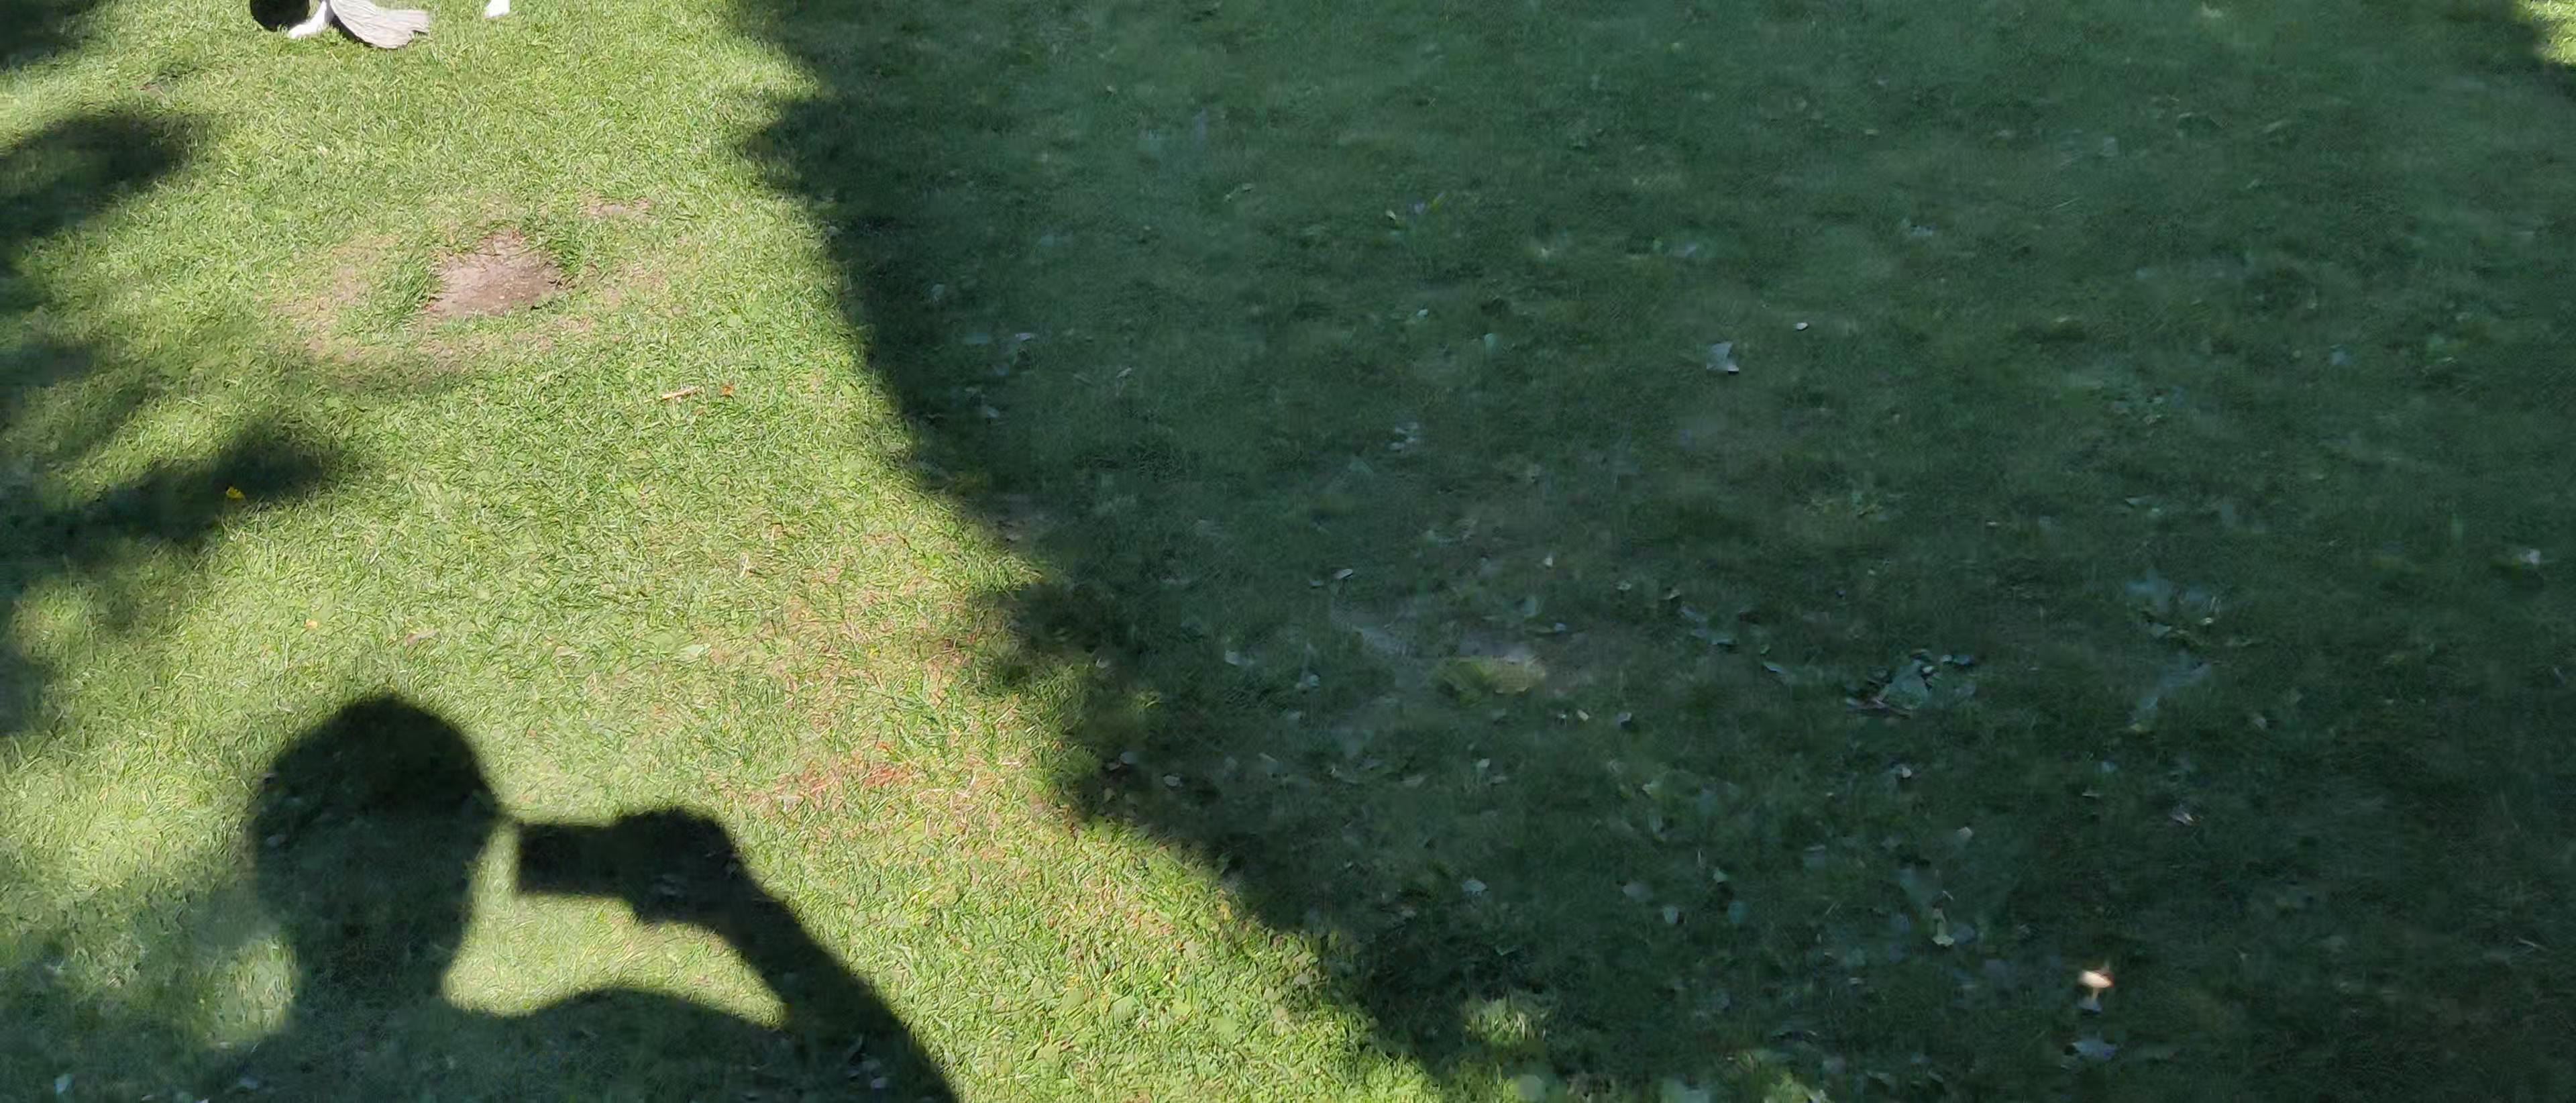Dog: (278, 0, 568, 49)
